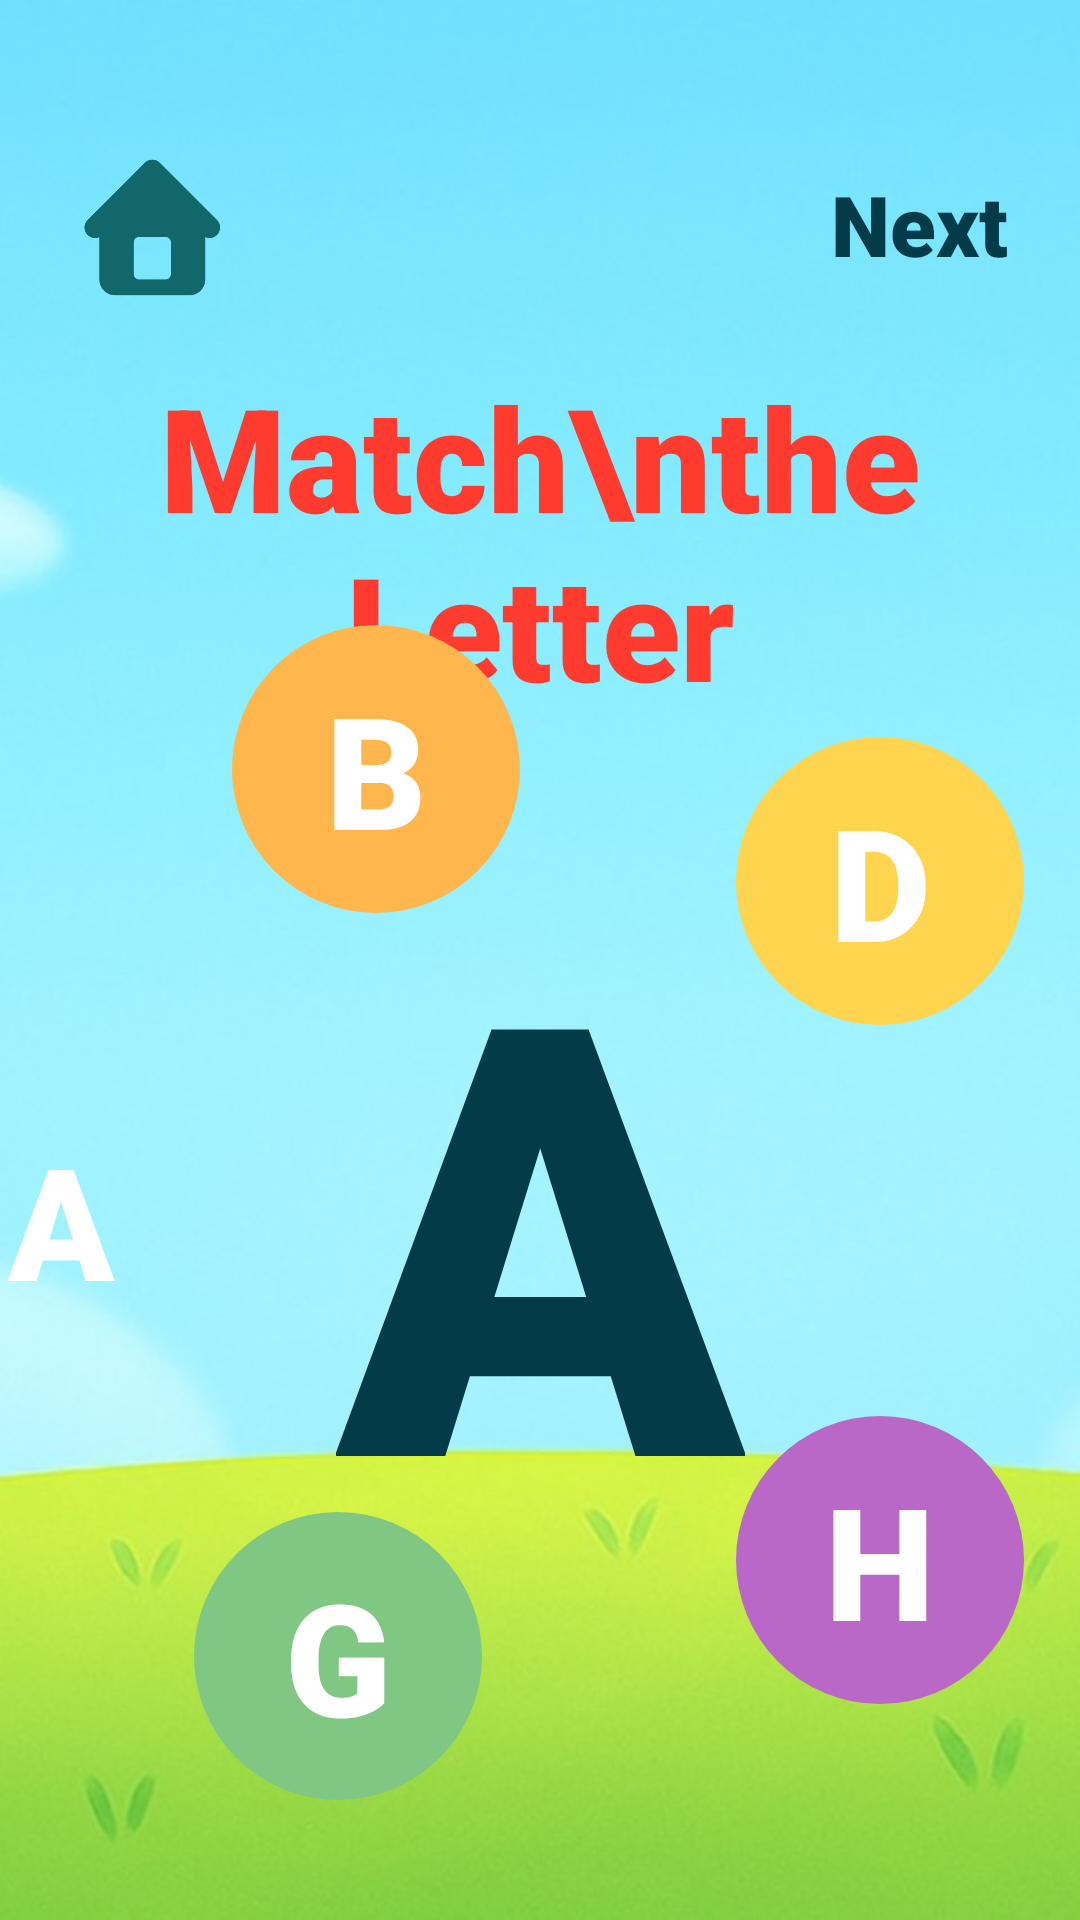

Locate icon controls on the screen. Image size 1080x1920, boxes as (x1, y1, x2, y2).
Home Button: (84, 159, 220, 296)
